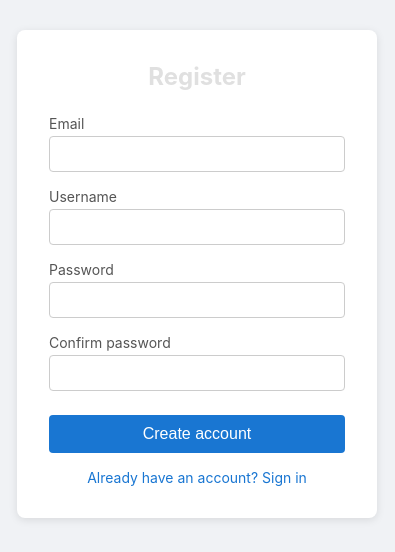
it: RegisterPage › shows error when passwords do not match
Type "a@b.com" into the field labelled "Email" at (197, 154), box [49,136,345,172]
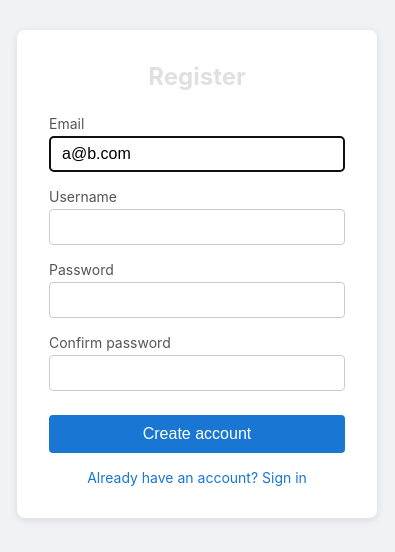
Type "alice" into the field labelled "Username" at (197, 227), box [49,209,345,245]
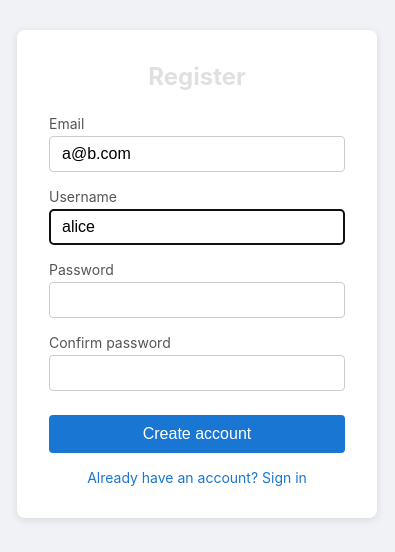
Type "pass1" into the password field labelled "Password" at (197, 300), box [49,282,345,318]
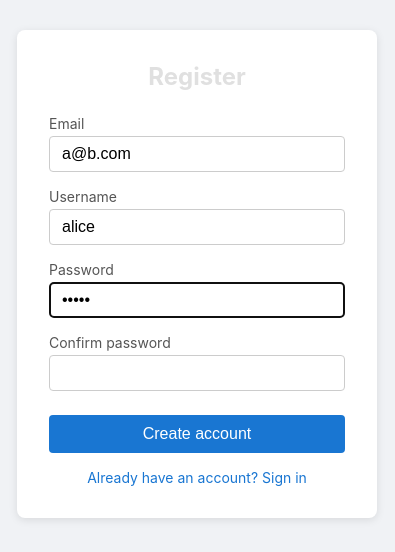
Type "pass2" into the password field labelled "Confirm password" at (197, 373), box [49,355,345,391]
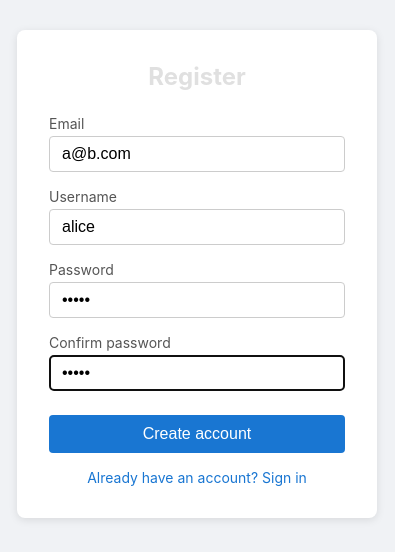
Click the button "Create account" at (197, 434), box [49,415,345,453]
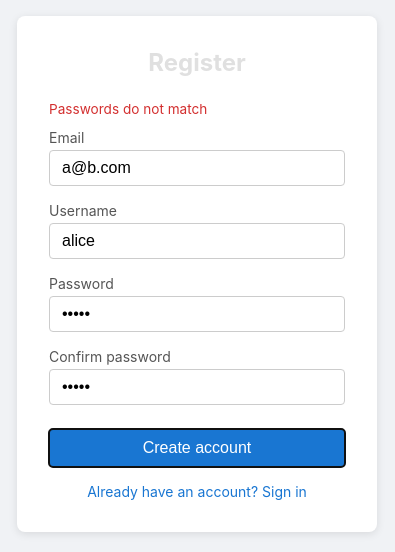
Now the text "Passwords do not match" is shown, box [49,101,207,117]
